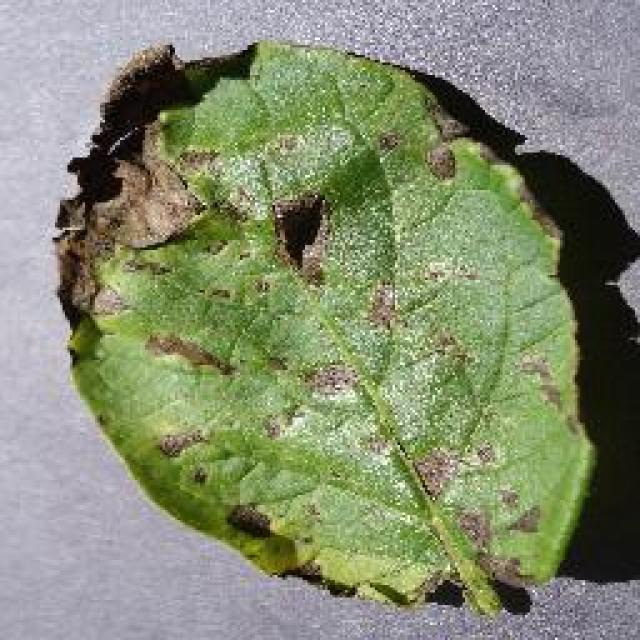early_blight: (52, 35, 600, 617)
